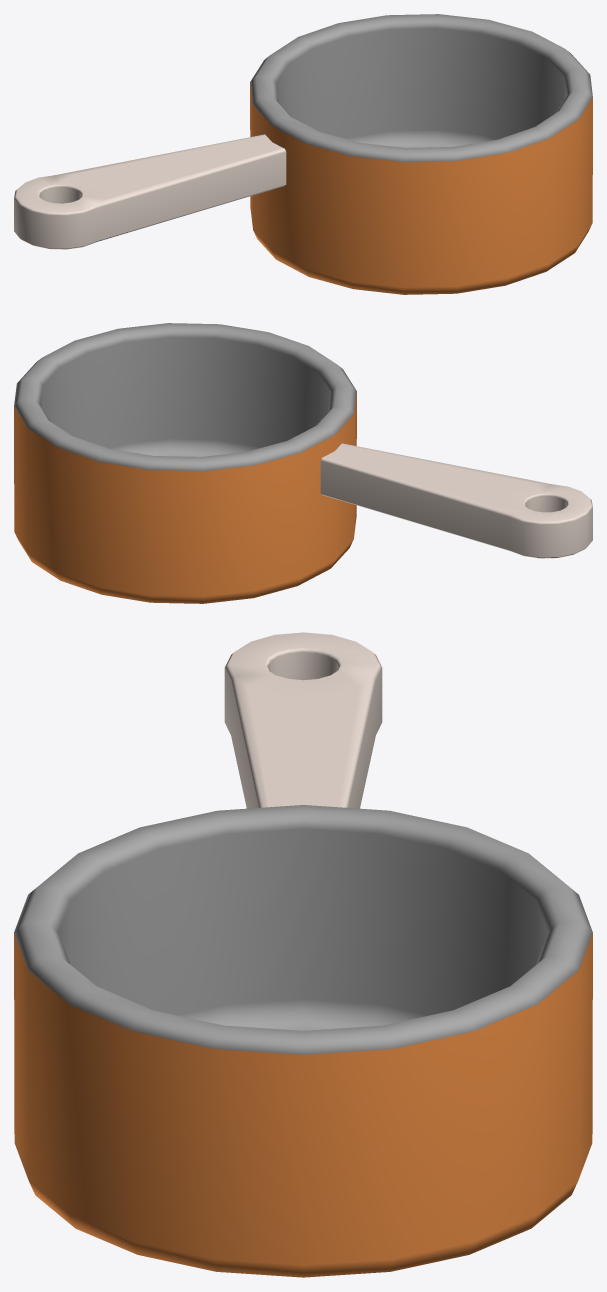
The model's file is Pot_orange.glb.
The picture shows the model from 3 angles, top to bottom: view 1: azimuth 30°, elevation 25°; view 2: azimuth 150°, elevation 25°; view 3: azimuth 270°, elevation 25°; orthographic projection. The views are drawn at different scales.
Visible parts, largest first — view 1: Pot_2; view 2: Pot_2; view 3: Pot_2.
Boxes of the visible parts, box(x1,y1,x2,y2) form: Pot_2: box(14, 14, 592, 294); Pot_2: box(14, 323, 592, 603); Pot_2: box(14, 632, 592, 1277).
Bounding box in the file's own units: 0.8635 × 0.2164 × 0.4682.
Materials: 1 (1 with a texture image).
